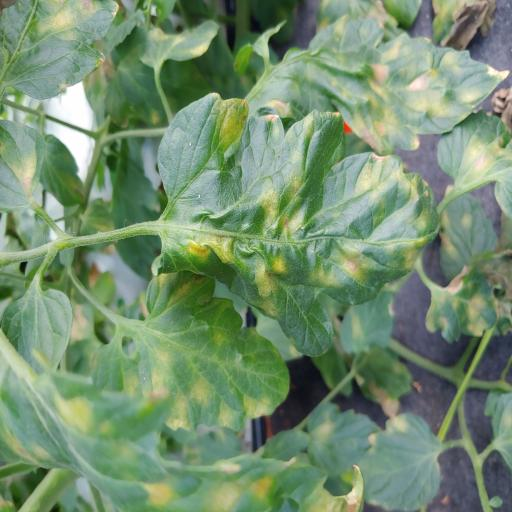Leaf Mold: (157, 94, 441, 360), (0, 346, 366, 512), (264, 13, 509, 154), (89, 272, 290, 433), (0, 0, 120, 100), (436, 113, 512, 225), (1, 288, 74, 374), (425, 265, 498, 344), (0, 118, 47, 214), (137, 18, 219, 69)
